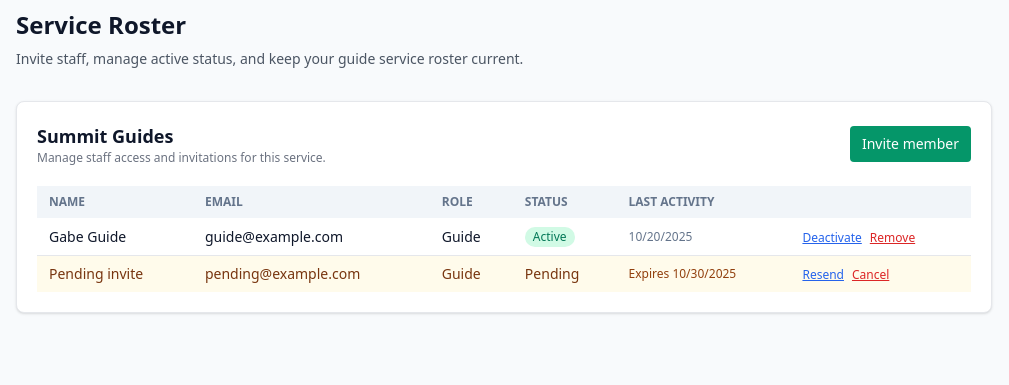
ServiceRosterPage › toggles member active state
The width and height of the screenshot is (1009, 385).
Click the button "Deactivate": point(832, 238) x1=802 y1=230 x2=862 y2=246
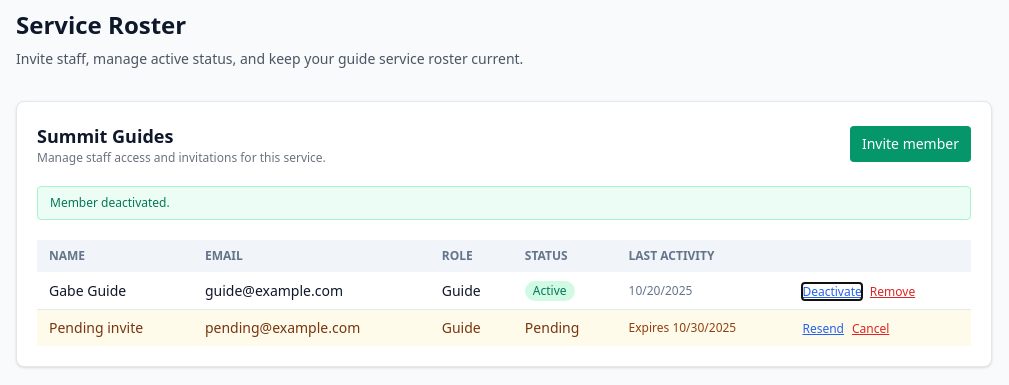
Expected: the text "Member deactivated." is shown, x1=37 y1=186 x2=971 y2=220
